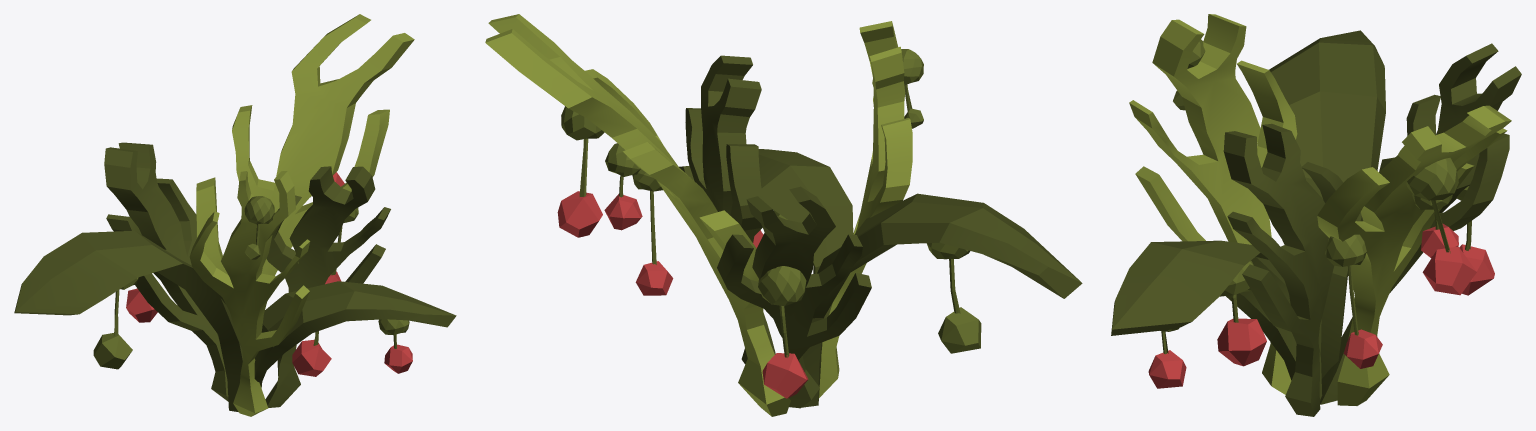
File: ea_swamp_leaffruits_01a_pre_9_lev1.glb
3 views of the same model, side by side, from view 1: azimuth 30°, elevation 25°; view 2: azimuth 150°, elevation 25°; view 3: azimuth 270°, elevation 25° (orthographic). The views are drawn at different scales.
Visible parts, largest first — view 1: ea_swamp_leaffruits_01a_pre_9_lev1; view 2: ea_swamp_leaffruits_01a_pre_9_lev1; view 3: ea_swamp_leaffruits_01a_pre_9_lev1.
Boxes of the visible parts, left/top/right/bottom form: ea_swamp_leaffruits_01a_pre_9_lev1: left=14, top=14, right=456, bottom=416; ea_swamp_leaffruits_01a_pre_9_lev1: left=485, top=14, right=1082, bottom=416; ea_swamp_leaffruits_01a_pre_9_lev1: left=1111, top=14, right=1521, bottom=416.
Size of the model in its own units: 2.22 by 1.47 by 1.35.
Materials: 1 (1 with a texture image).
